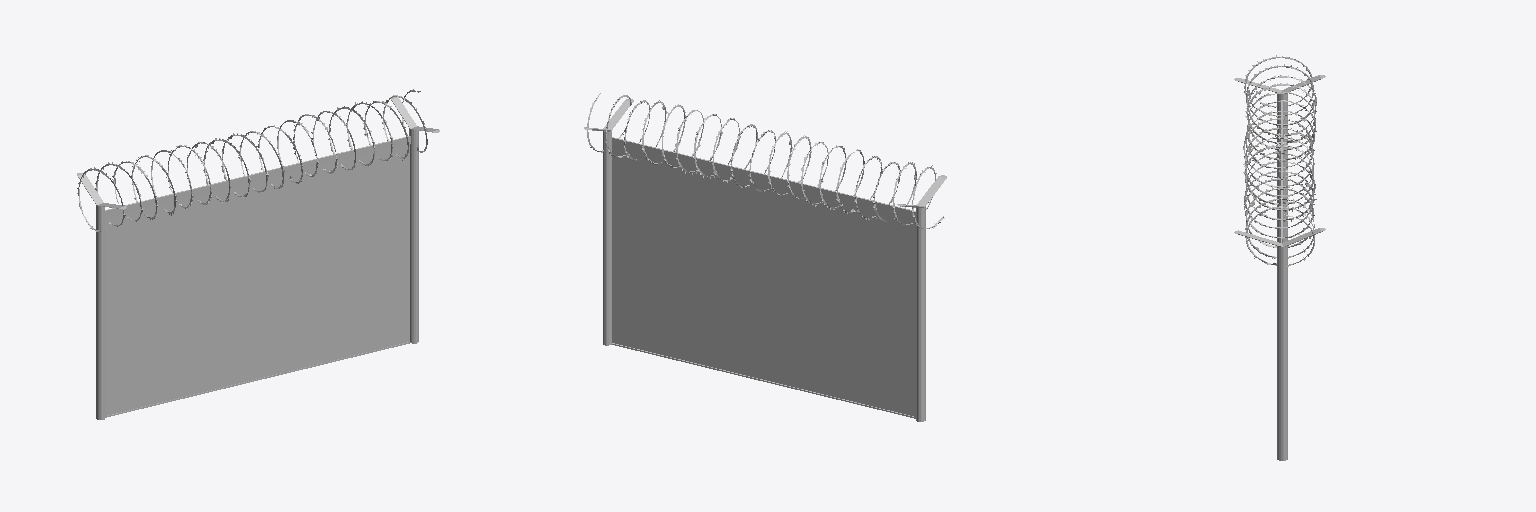
File: steel fence.obj
3 renders of one model, left to right at view 1: azimuth 30°, elevation 25°; view 2: azimuth 150°, elevation 25°; view 3: azimuth 270°, elevation 25°, orthographic.
Visible parts, largest first — view 1: net_low, Spring321; view 2: net_low, Spring321; view 3: Spring321.
Part boxes in pixels (left/top/right/bottom): net_low: left=105, top=144, right=409, bottom=415; Spring321: left=77, top=89, right=439, bottom=419; net_low: left=612, top=145, right=915, bottom=416; Spring321: left=584, top=93, right=946, bottom=421; Spring321: left=1234, top=55, right=1325, bottom=460.
Size of the model in its own units: 41.4 by 29.78 by 9.82.